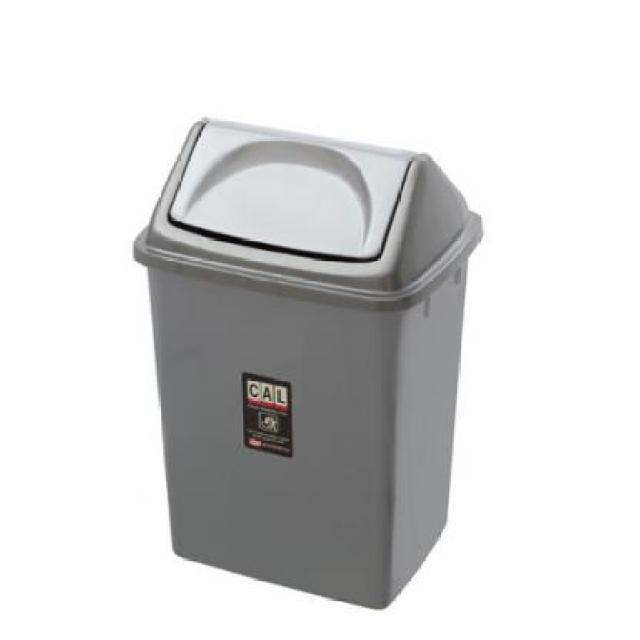garbage container: (127, 109, 498, 631)
